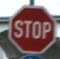stopsign: (8, 4, 57, 54)
